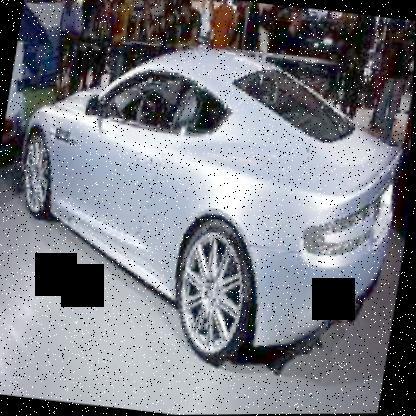not_emergency: (0, 24, 414, 385)
